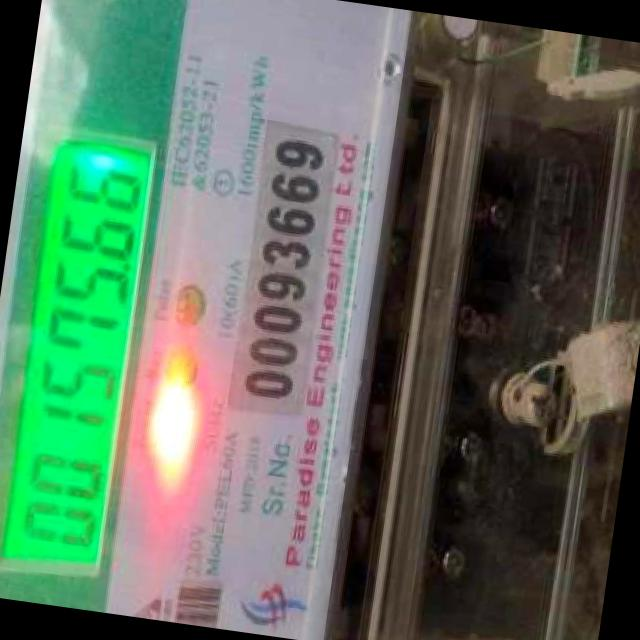LCD: (0, 96, 175, 593)
